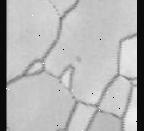good_void: (75, 54, 81, 63)
